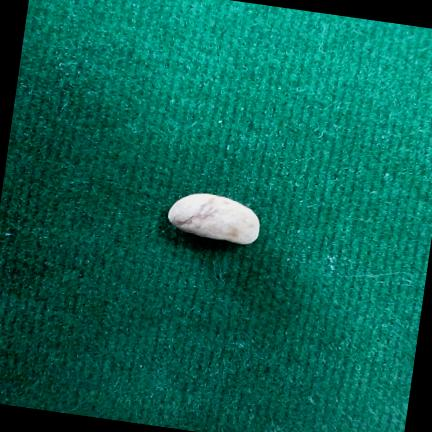shell: (167, 193, 259, 244)
